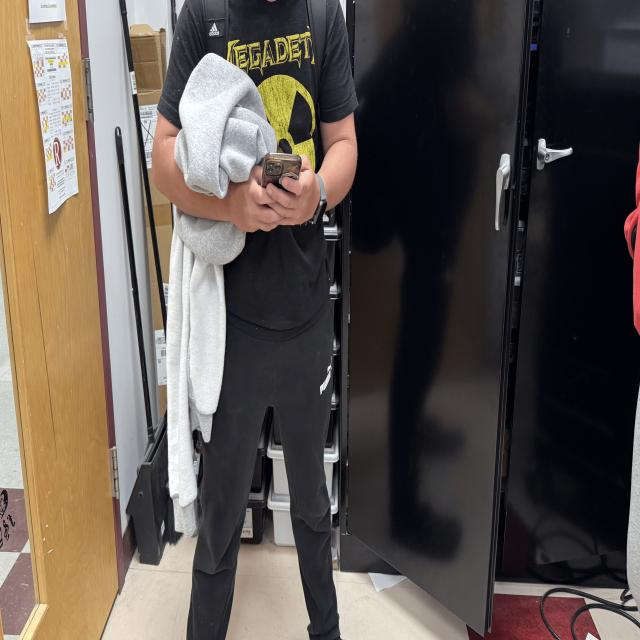pen: (259, 152, 302, 225)
